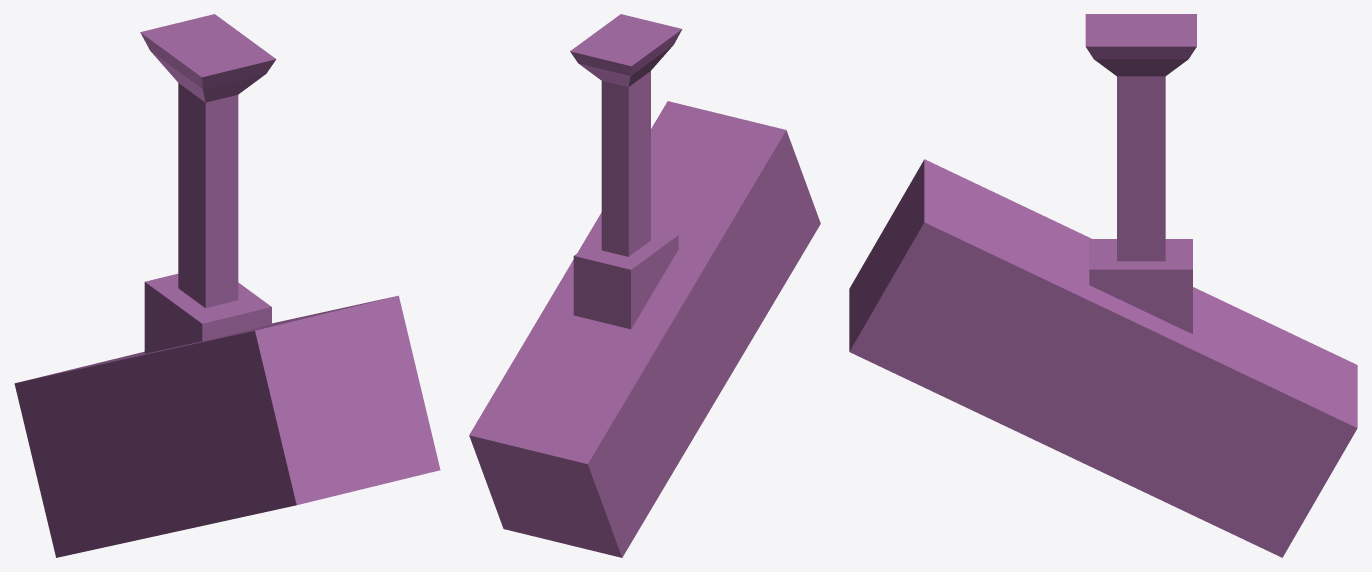
The model's file is Camera.fbx.
3 renders of one model, left to right at view 1: azimuth 30°, elevation 25°; view 2: azimuth 150°, elevation 25°; view 3: azimuth 270°, elevation 25°, orthographic. The views are drawn at different scales.
Parts seen in each view (by area): view 1: Camera; view 2: Camera; view 3: Camera.
Part boxes in pixels (box(x1,y1,x2,y2)): Camera: box(14, 14, 440, 557); Camera: box(469, 14, 820, 557); Camera: box(849, 14, 1357, 557).
Size of the model in its own units: 13.21 by 48.42 by 44.89.
